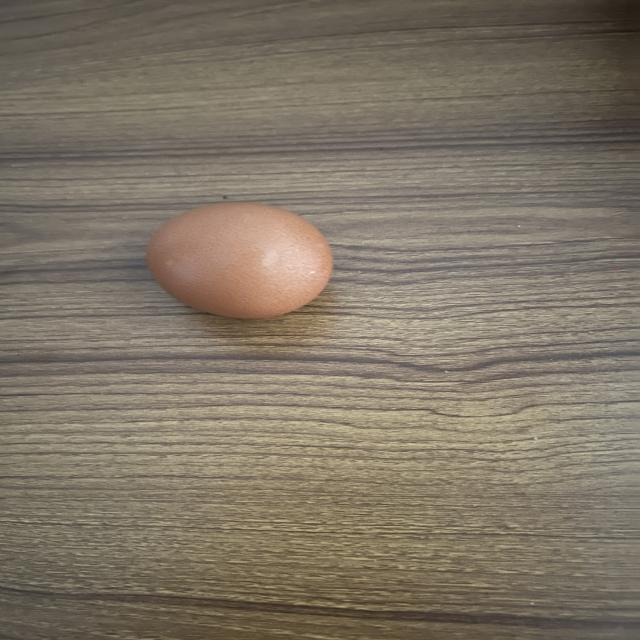Egg: (140, 198, 340, 326)
